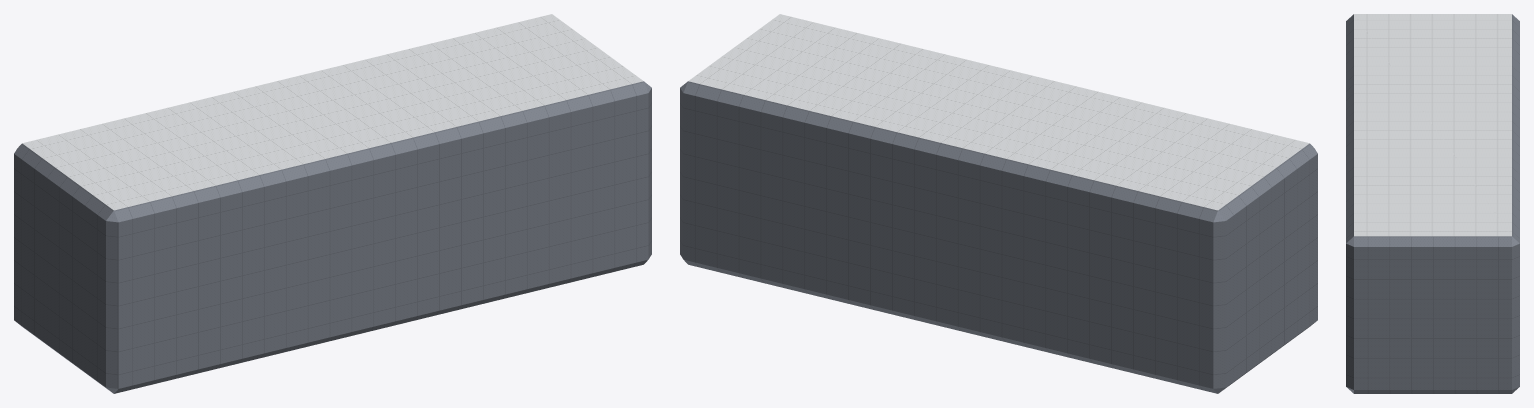
Rendered from R4B_Beam3_LOD1.glb.
3 renders of one model, left to right at view 1: azimuth 30°, elevation 25°; view 2: azimuth 150°, elevation 25°; view 3: azimuth 270°, elevation 25°, orthographic. The views are drawn at different scales.
Visible parts, largest first — view 1: R4B_Beam3_LOD1; view 2: R4B_Beam3_LOD1; view 3: R4B_Beam3_LOD1.
Boxes of the visible parts, bbox=[...] form: R4B_Beam3_LOD1: bbox=[14, 14, 651, 393]; R4B_Beam3_LOD1: bbox=[680, 14, 1317, 393]; R4B_Beam3_LOD1: bbox=[1346, 14, 1519, 393].
Size of the model in its own units: 1.62 by 0.52 by 0.52.
2 materials, 2 textured.
